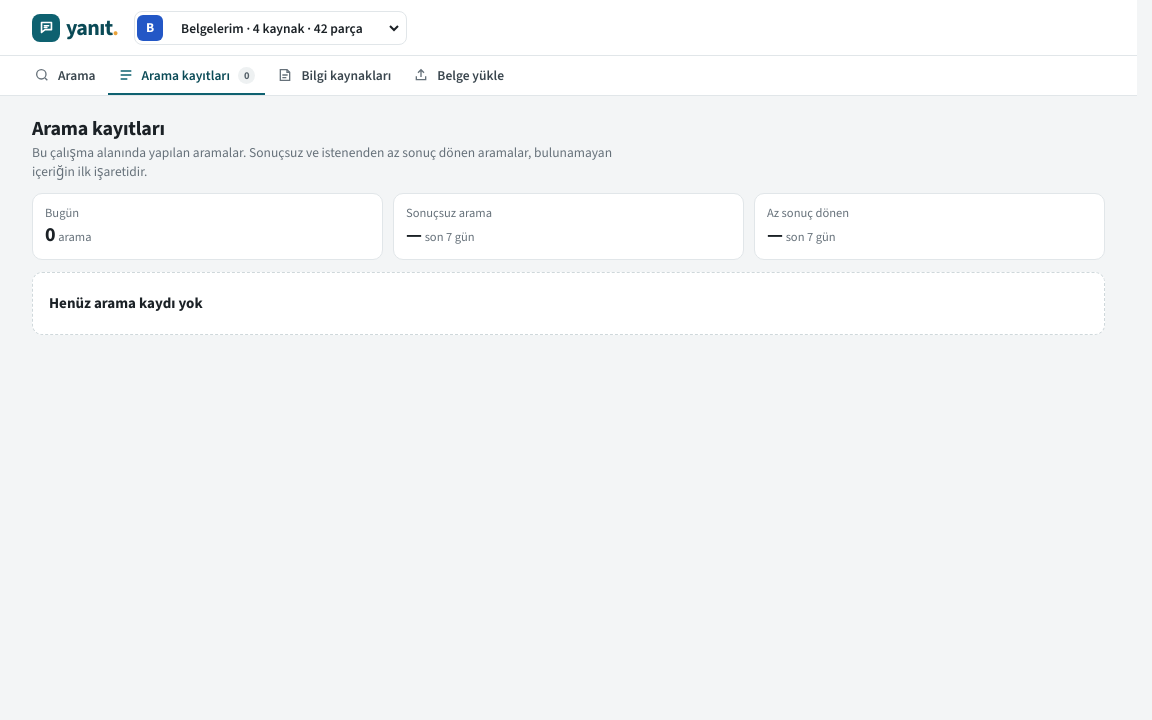
SearchEventsPage › givenSearchCompleted_whenBackOnSearchEvents_thenTabCountAndTableUpdated
Check: the link "Arama kayıtları 0" is shown, box x1=108 y1=56 x2=266 y2=95
Check: the text "Henüz arama kaydı yok" is shown, box x1=49 y1=293 x2=203 y2=313
Click the link "Arama" at (65, 75), box x1=34 y1=66 x2=96 y2=84
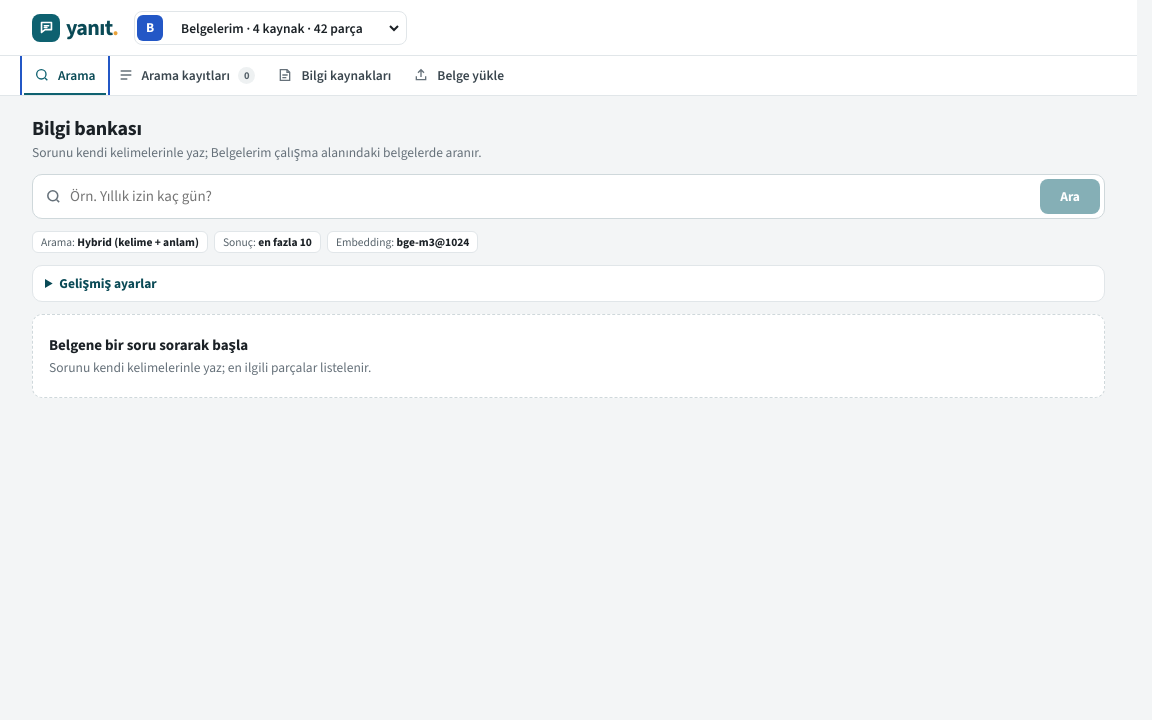
Type "yeni kayıt" into the field named "Arama metni" at (551, 196), box x1=70 y1=180 x2=1032 y2=213
Then press Enter
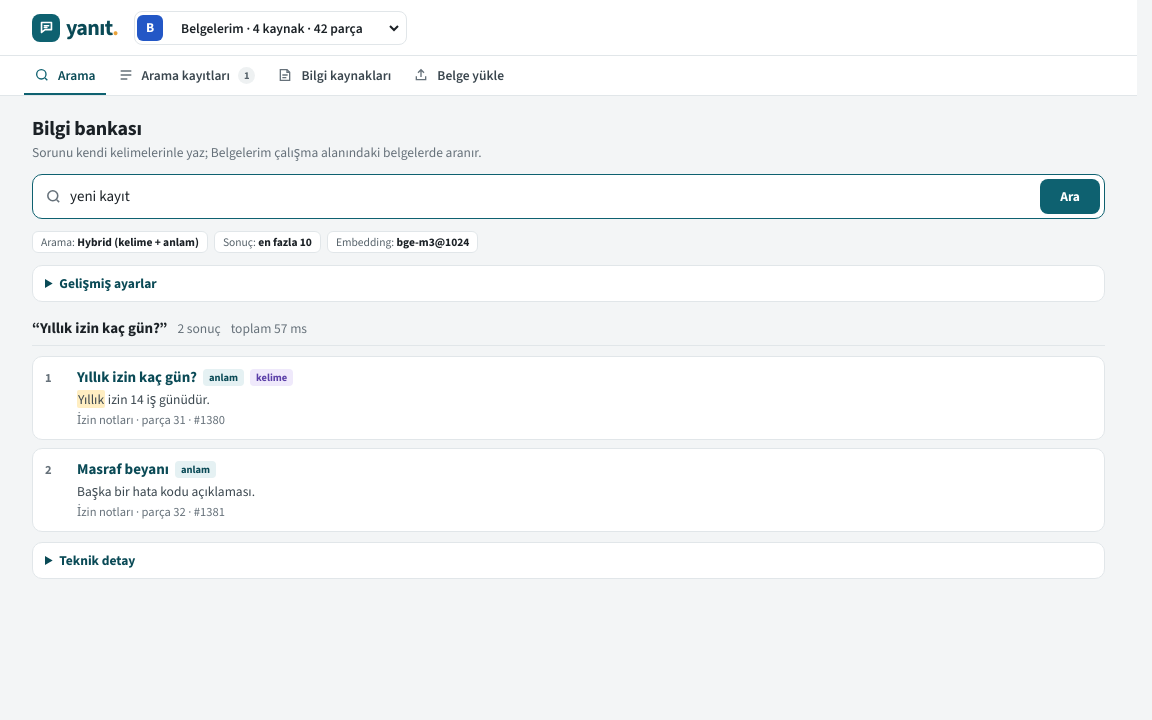
Check: the text "2 sonuç" is shown, box x1=177 y1=319 x2=221 y2=338
Click the link "Arama kayıtları 1" at (186, 75), box x1=118 y1=66 x2=256 y2=84
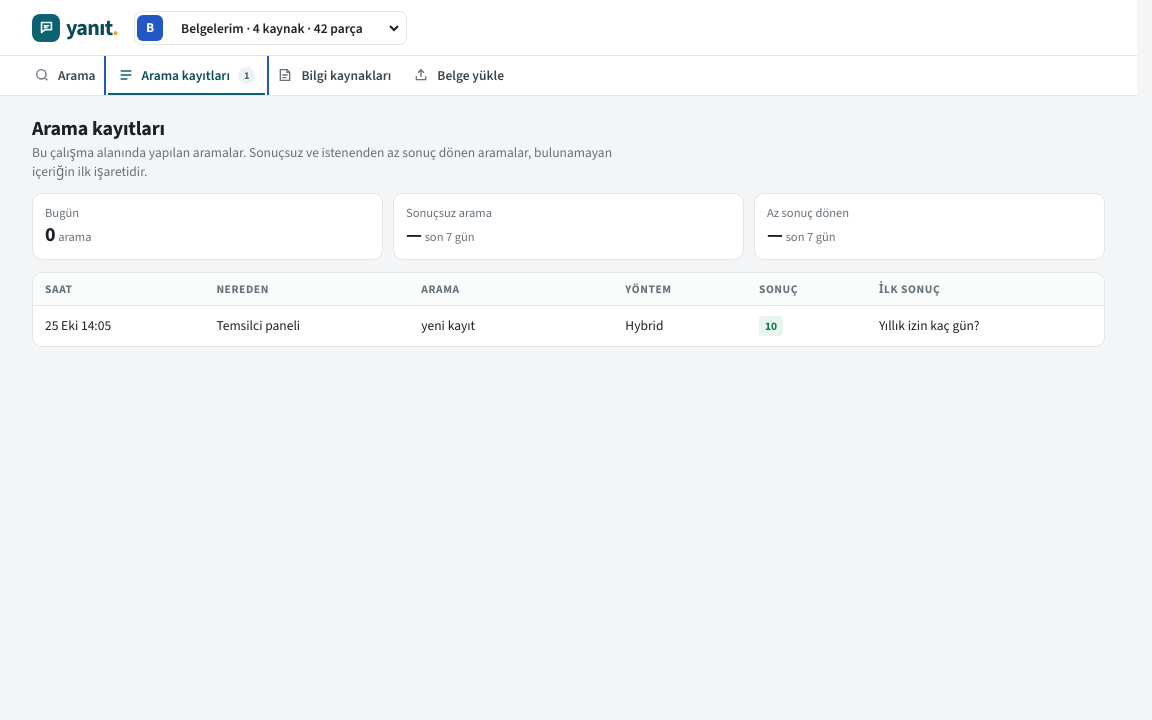
Check: the link "Arama kayıtları 1" is shown, box x1=108 y1=56 x2=266 y2=95
Check: the text "yeni kayıt" is shown, box x1=409 y1=306 x2=613 y2=346
